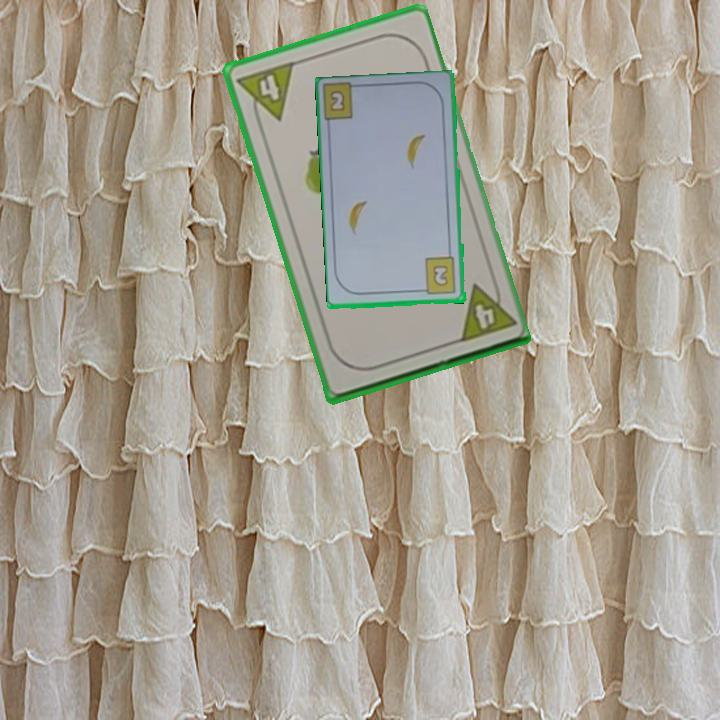2b: (417, 254, 459, 297), (325, 87, 348, 115)
4p: (233, 58, 297, 129), (454, 276, 518, 346)
